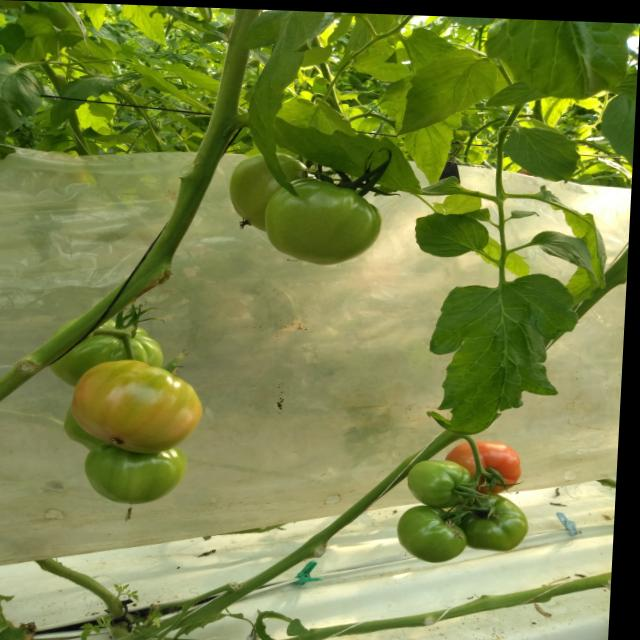yesil: (32, 306, 250, 543), (244, 114, 404, 266)
